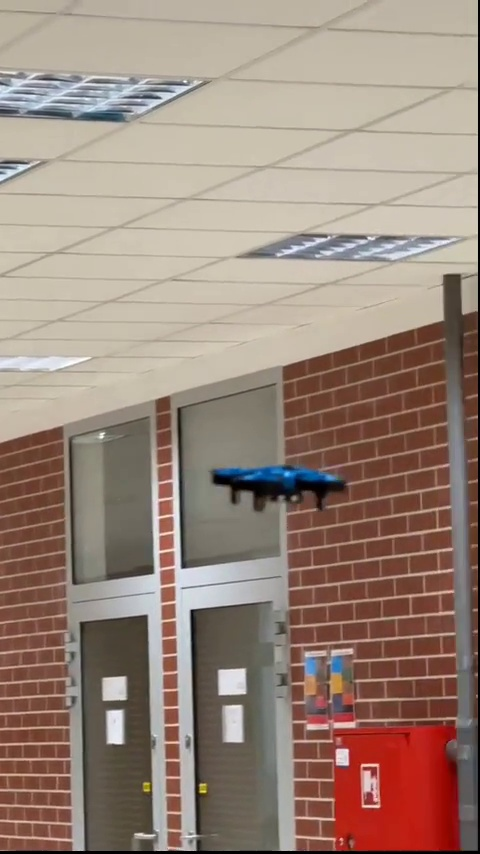drone: (211, 462, 337, 512)
